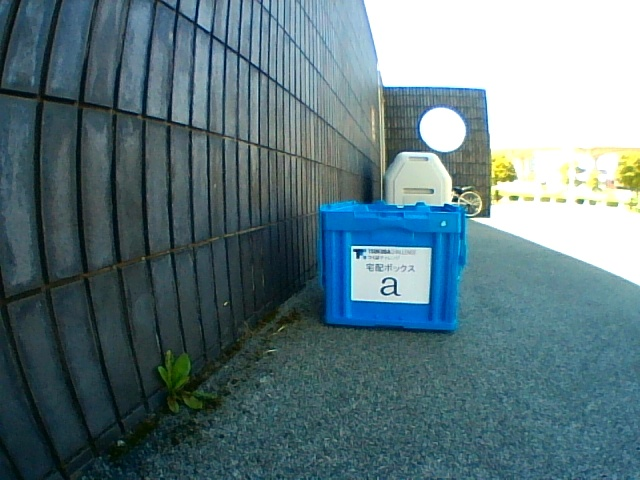blue_box: (318, 200, 467, 332)
tag_a: (352, 247, 429, 302)
